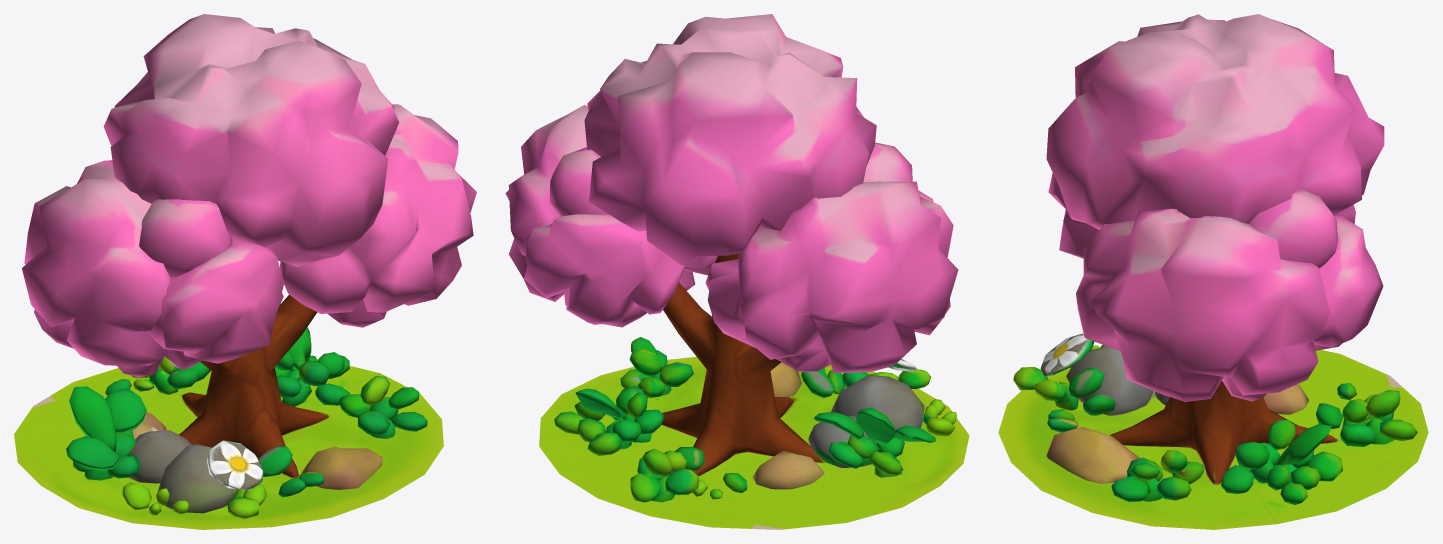
The model's file is r5c5_pink_blossom_tree.glb.
3 renders of one model, left to right at view 1: azimuth 30°, elevation 25°; view 2: azimuth 150°, elevation 25°; view 3: azimuth 270°, elevation 25°, orthographic. The views are drawn at different scales.
Bounding box in the file's own units: 1 × 0.9434 × 0.8555.
1 material, 1 textured.
